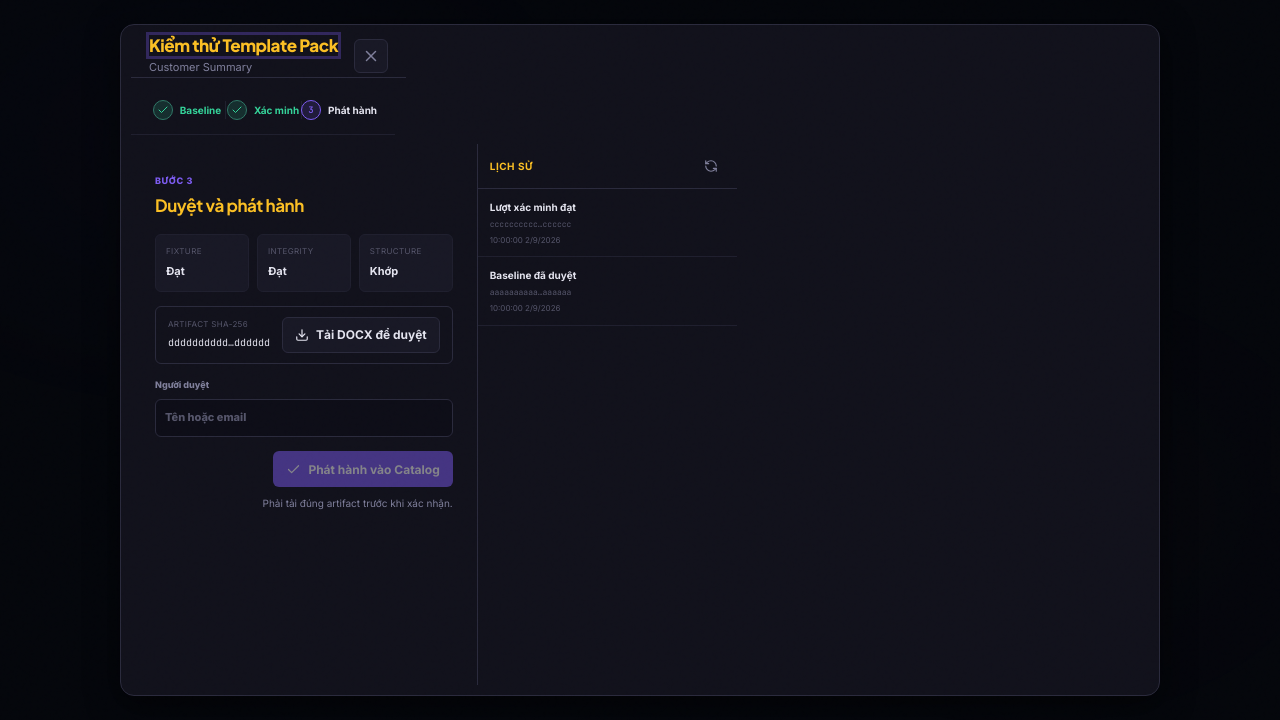
Test: Template Studio two-pass validation dialog › publishes only the reviewed second-pass checksum at the current catalog revision
The image size is (1280, 720).
Check: the heading "Duyệt và phát hành" is shown, box x1=155 y1=194 x2=304 y2=216
Type "publisher@example.test" into the field labelled "Người duyệt" at (304, 418), box x1=155 y1=399 x2=453 y2=437
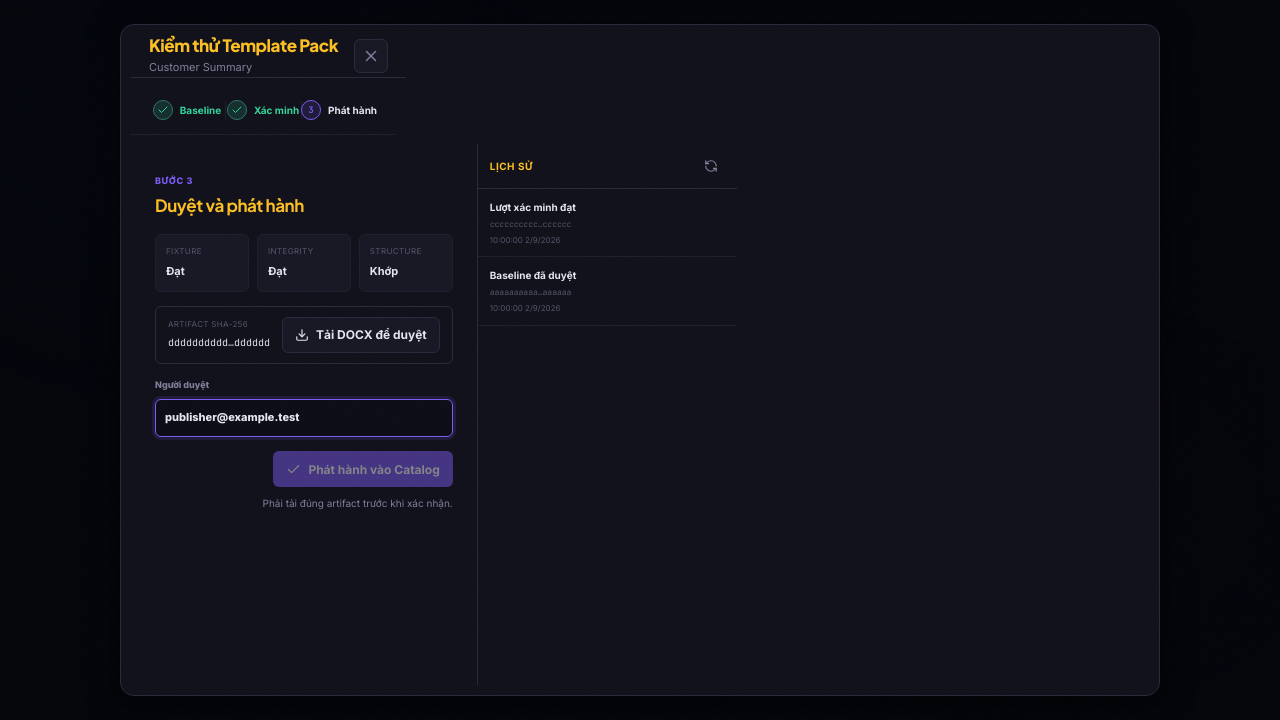
Click the button "Tải DOCX để duyệt" at (361, 335), box x1=282 y1=317 x2=440 y2=353
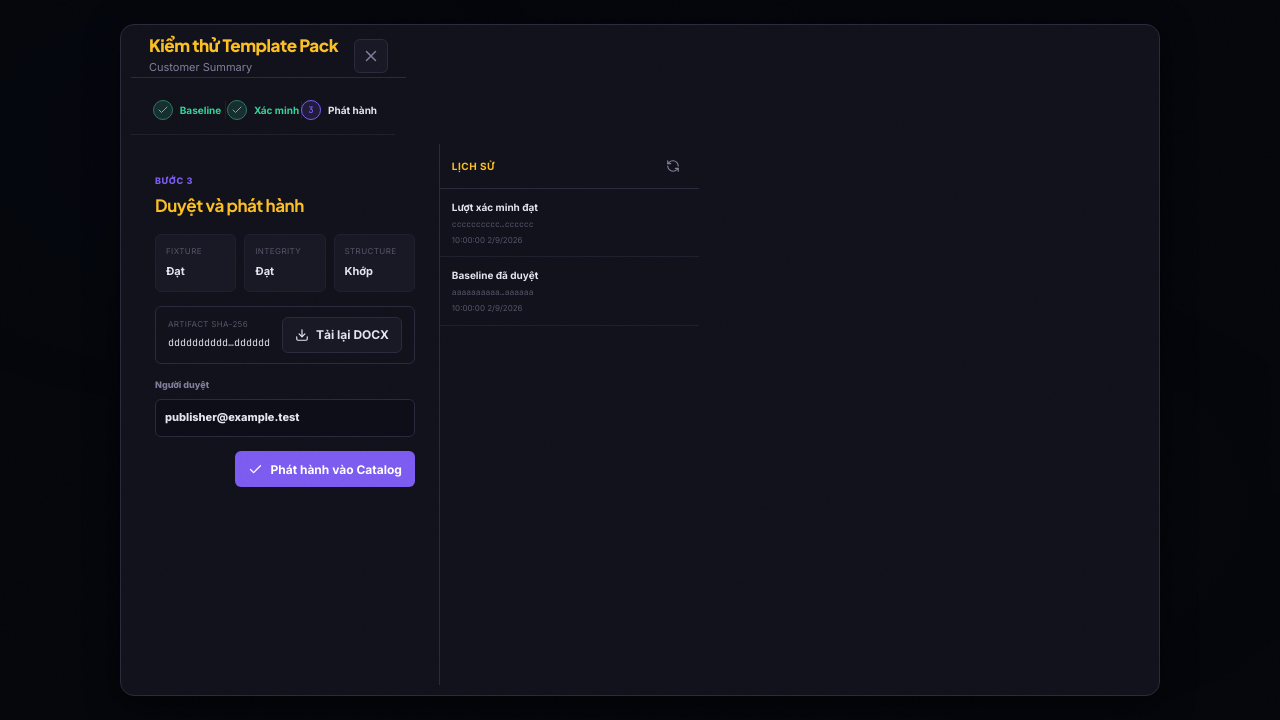
Check: the button "Phát hành vào Catalog" is enabled
Click the button "Phát hành vào Catalog" at (325, 469), box x1=236 y1=451 x2=415 y2=487
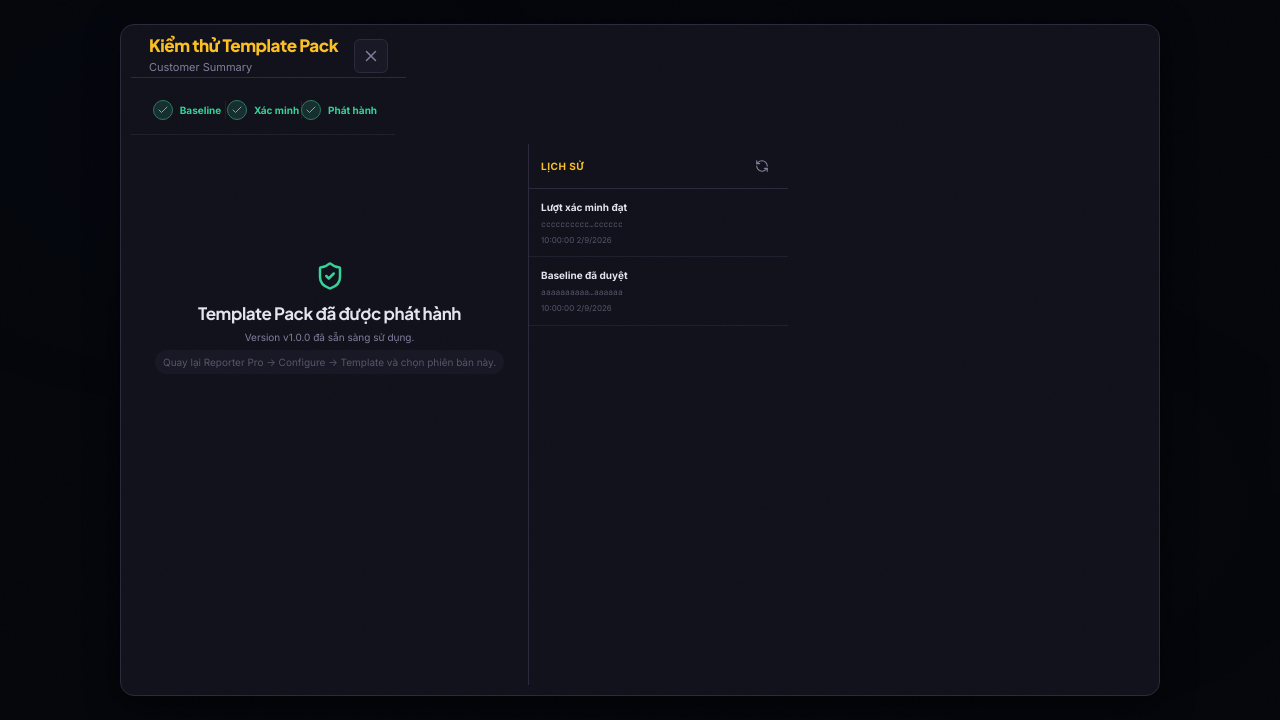
Check: the text "Configure → Template" is shown, box x1=163 y1=356 x2=496 y2=368
